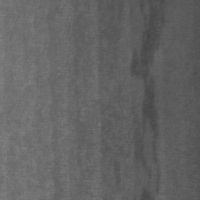inclusion: (129, 2, 170, 198)
